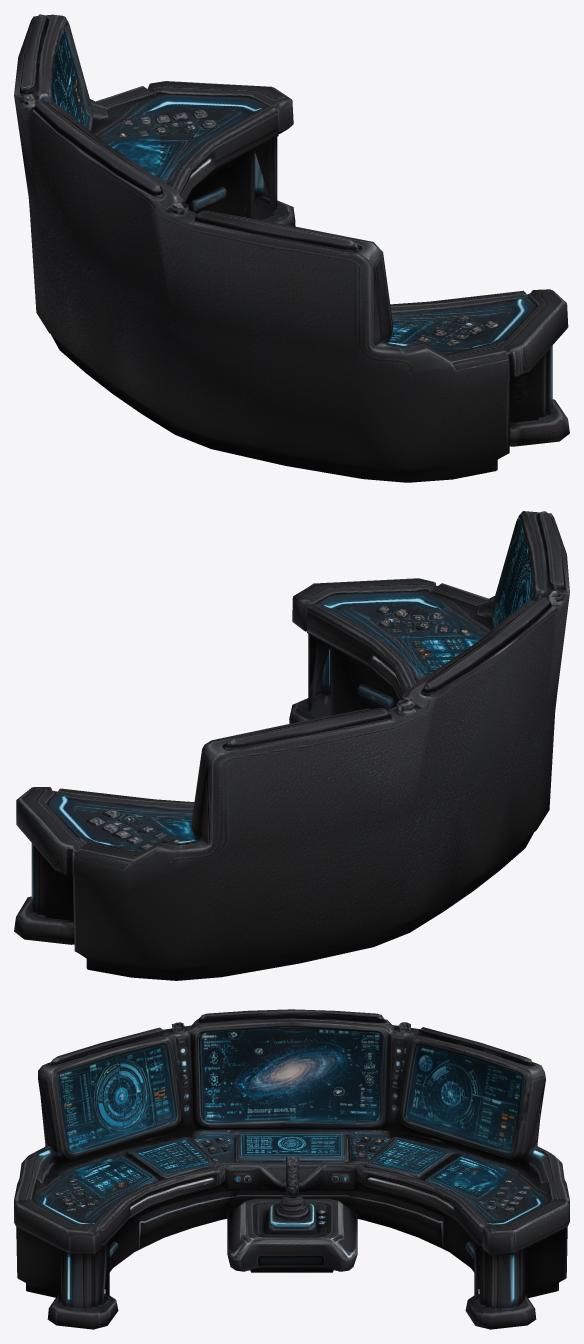
The model's file is LongTable-BlenderFBX.fbx.
3 renders of one model, top to bottom at view 1: azimuth 30°, elevation 25°; view 2: azimuth 150°, elevation 25°; view 3: azimuth 270°, elevation 25°, orthographic. The views are drawn at different scales.
Parts seen in each view (by area): view 1: meshes[0]; view 2: meshes[0]; view 3: meshes[0].
Boxes of the visible parts, x1=… form: meshes[0]: x1=14, y1=14, x2=569, y2=482; meshes[0]: x1=14, y1=511, x2=569, y2=980; meshes[0]: x1=14, y1=1009, x2=569, y2=1329.
Size of the model in its own units: 0.541 by 0.3848 by 0.998.
